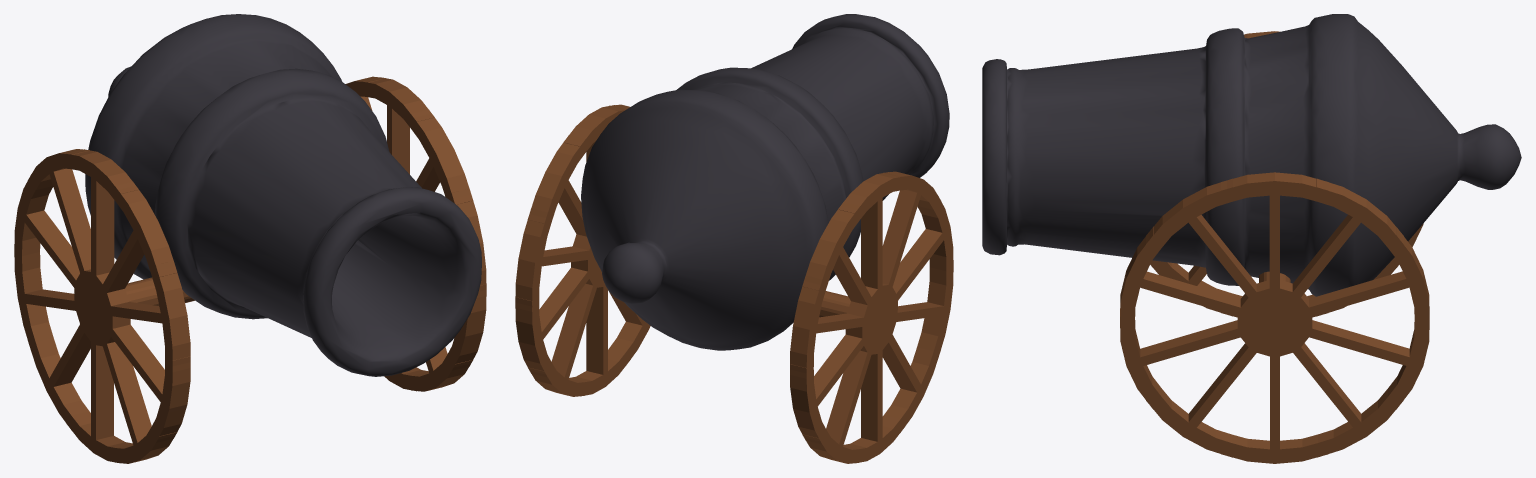
File: 大砲短いホイール付き.fbx
3 views of the same model, side by side, from view 1: azimuth 30°, elevation 25°; view 2: azimuth 150°, elevation 25°; view 3: azimuth 270°, elevation 25° (orthographic). The views are drawn at different scales.
Visible parts, largest first — view 1: cannon.001; view 2: cannon.001; view 3: cannon.001.
Part boxes in pixels (x1,y1,x2,y2): cannon.001: (14,14,486,463); cannon.001: (515,14,953,463); cannon.001: (982,14,1521,463).
Bounding box in the file's own units: 2063 × 2323 × 3139.
